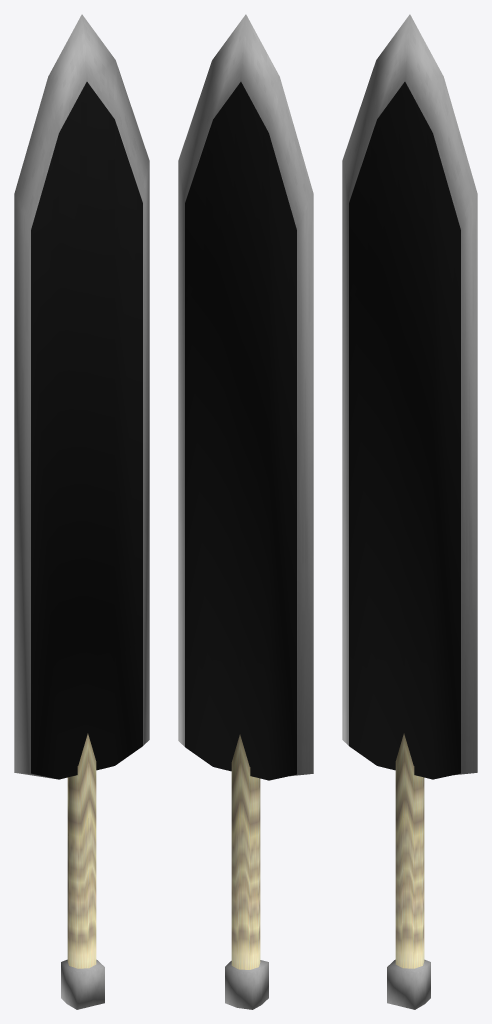
Rendered from DragonSlayer.fbx.
3 views of the same model, side by side, from view 1: azimuth 30°, elevation 25°; view 2: azimuth 150°, elevation 25°; view 3: azimuth 330°, elevation 25° (orthographic).
Parts seen in each view (by area): view 1: DragonSlayer; view 2: DragonSlayer; view 3: DragonSlayer.
Boxes of the visible parts, box(x1,y1,x2,y2) form: DragonSlayer: box(14, 14, 149, 1009); DragonSlayer: box(178, 14, 313, 1009); DragonSlayer: box(342, 14, 477, 1009).
Bounding box in the file's own units: 220 × 1533 × 50.4.
